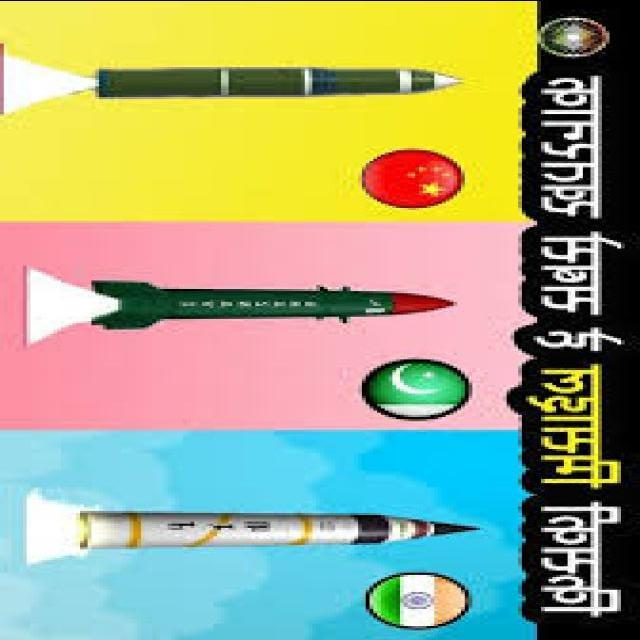missile: (67, 506, 482, 550), (87, 279, 466, 326), (83, 64, 475, 97)
